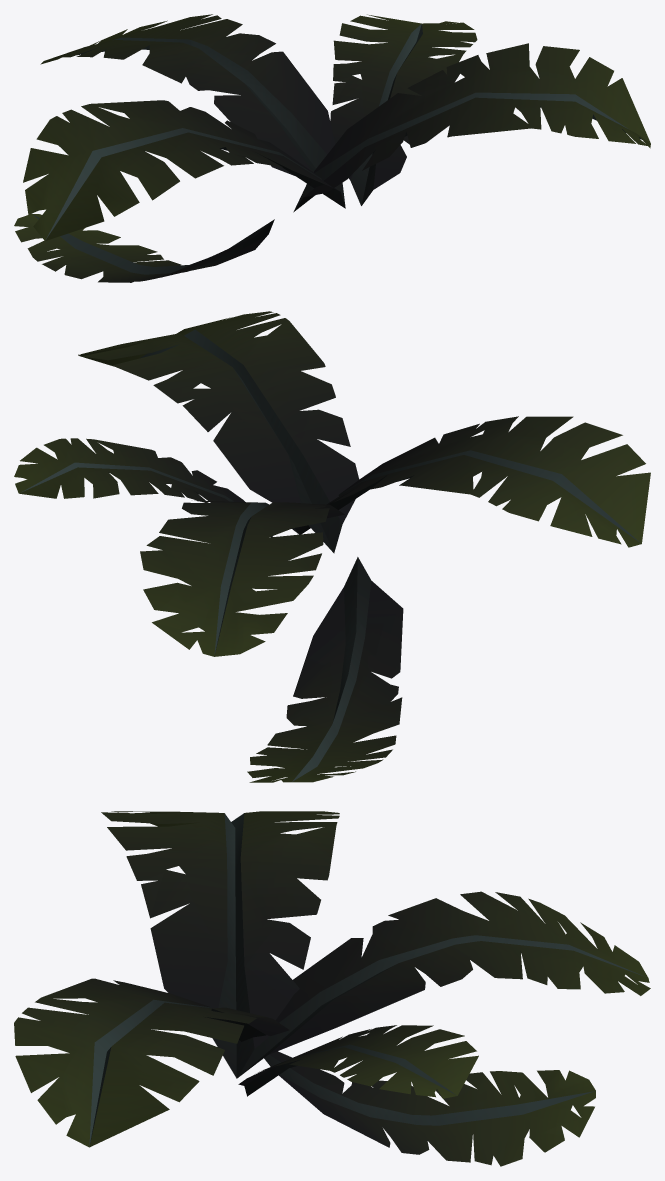
The model's file is GrassPlant.FBX.
3 views of the same model, one above another, from view 1: azimuth 30°, elevation 25°; view 2: azimuth 150°, elevation 25°; view 3: azimuth 270°, elevation 25° (orthographic). The views are drawn at different scales.
Visible parts, largest first — view 1: Plant012, Plant010, Plant011, Plant014, Plant013; view 2: Plant012, Plant010, Plant011, Plant013, Plant014; view 3: Plant010, Plant011, Plant012, Plant013, Plant014.
Boxes of the visible parts, <box> form: Plant012: <box>293,43,650,212</box>; Plant010: <box>23,100,345,240</box>; Plant011: <box>40,14,345,207</box>; Plant014: <box>330,14,477,205</box>; Plant013: <box>14,214,274,282</box>; Plant012: <box>78,311,359,553</box>; Plant010: <box>301,416,650,547</box>; Plant011: <box>140,500,344,656</box>; Plant013: <box>247,557,403,782</box>; Plant014: <box>14,438,272,537</box>; Plant010: <box>101,811,339,1078</box>; Plant011: <box>237,891,650,1078</box>; Plant012: <box>14,978,289,1147</box>; Plant013: <box>264,1051,595,1166</box>; Plant014: <box>238,1025,478,1098</box>.
Bounding box in the file's own units: 31.72 × 12.73 × 27.82.
